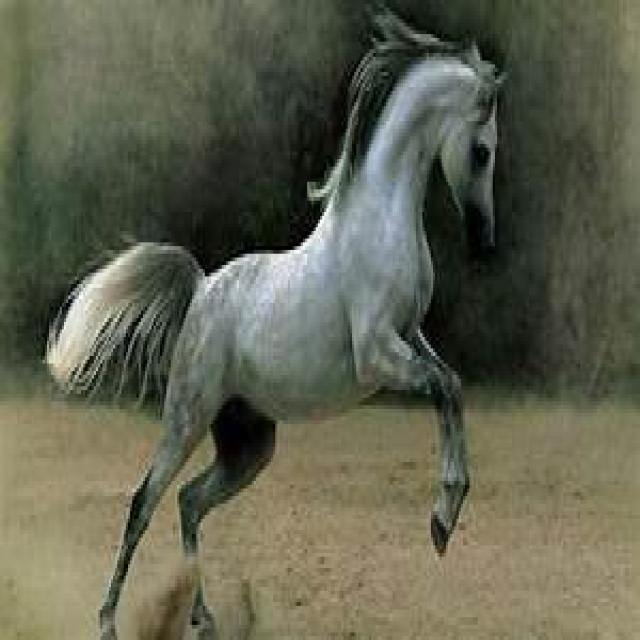horse: (48, 11, 500, 637)
